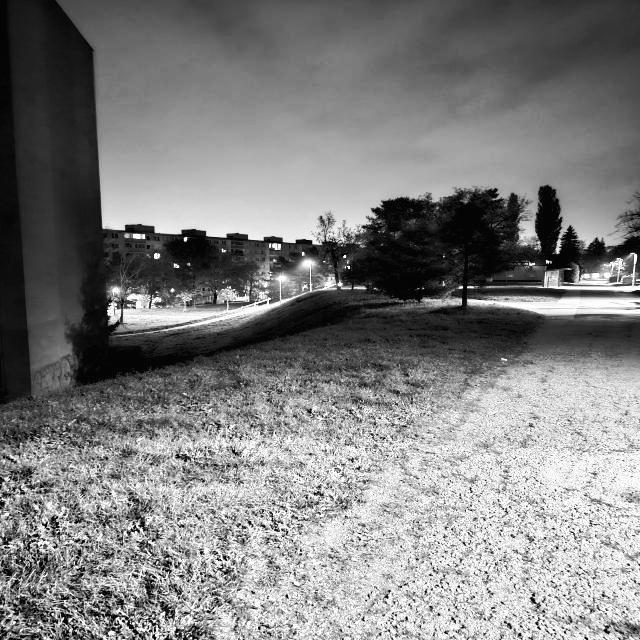Light: (629, 251, 639, 287), (304, 261, 313, 291), (112, 287, 121, 316), (616, 257, 624, 282), (278, 275, 285, 301), (609, 261, 616, 282)
